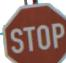Stop sign: (0, 0, 65, 62)
